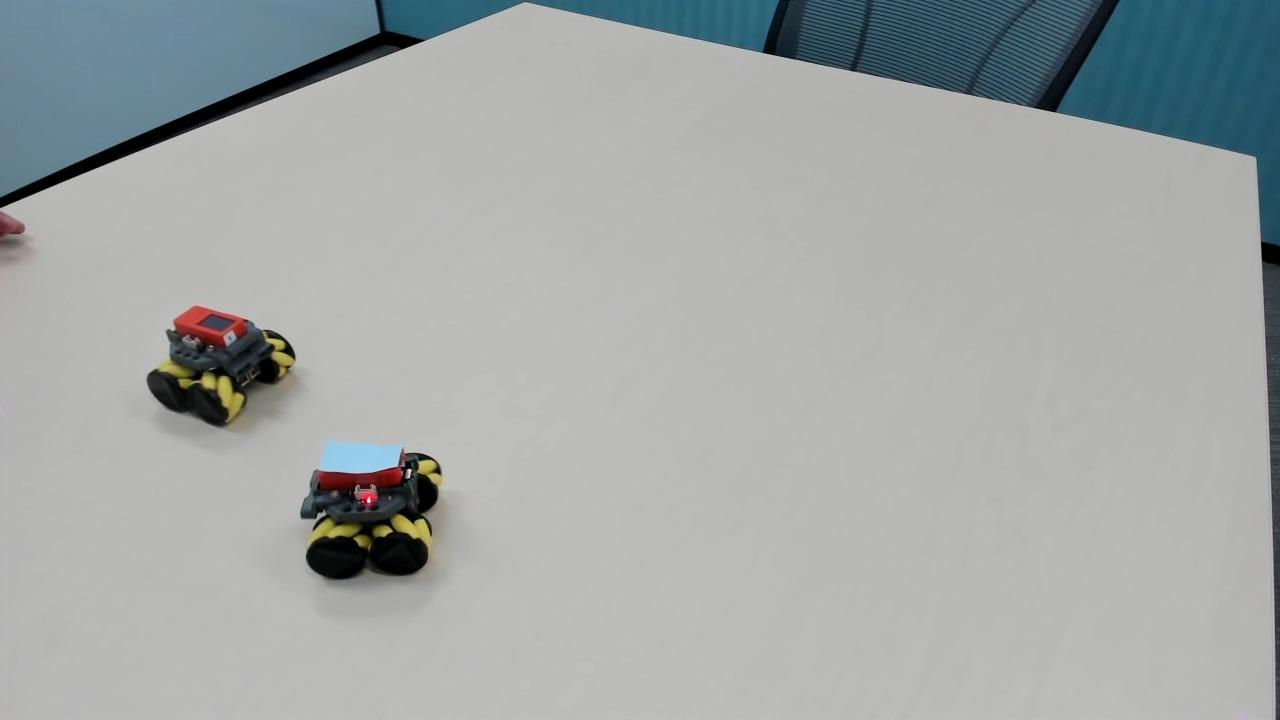B-Robot: (285, 431, 461, 595)
R-Robot: (144, 290, 306, 433)
